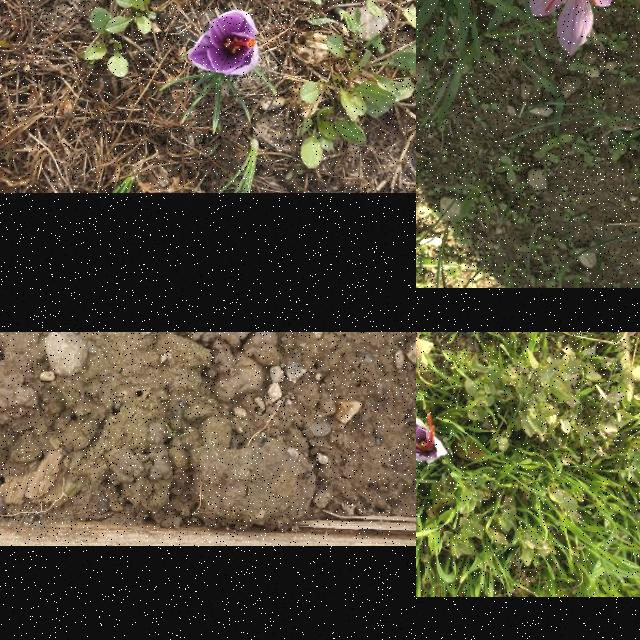flower: (503, 0, 615, 55), (188, 10, 256, 76), (416, 414, 449, 462)
